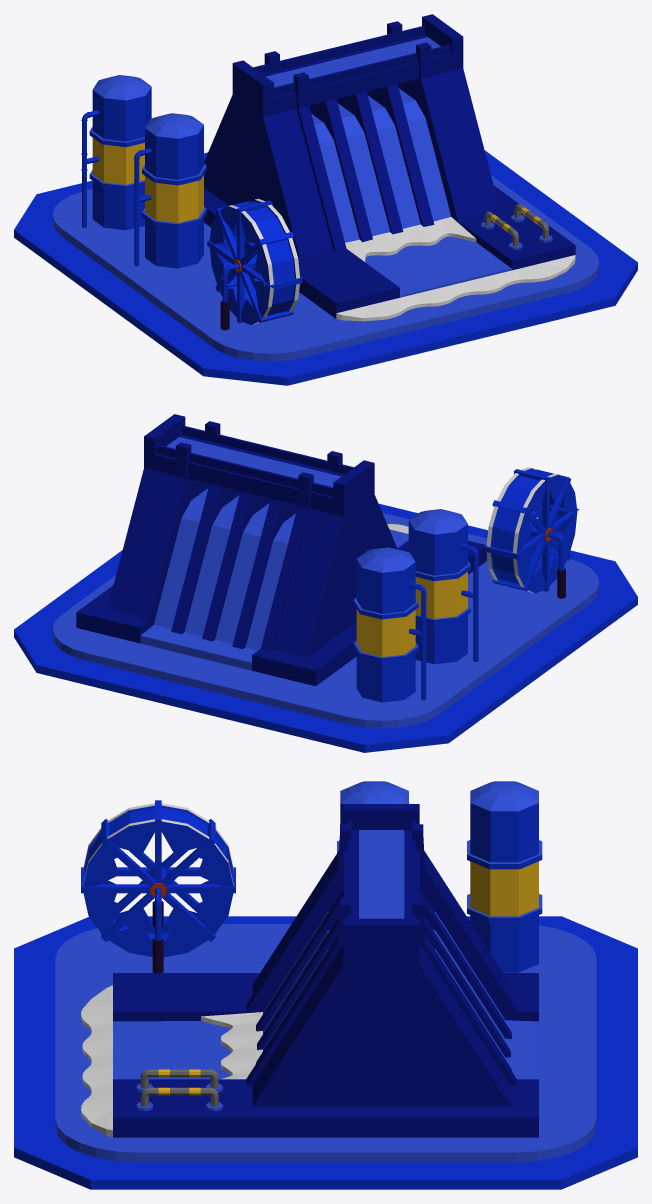
Rendered from PowerPlant_Blue.fbx.
3 views of the same model, one above another, from view 1: azimuth 30°, elevation 25°; view 2: azimuth 150°, elevation 25°; view 3: azimuth 270°, elevation 25° (orthographic). The views are drawn at different scales.
Visible parts, largest first — view 1: Power plant blue.001, Water mill.002; view 2: Power plant blue.001, Water mill.002; view 3: Power plant blue.001, Water mill.002.
Part boxes in pixels (x1=…): Power plant blue.001: x1=14, y1=14, x2=637, y2=385; Water mill.002: x1=207, y1=198, x2=302, y2=324; Power plant blue.001: x1=14, y1=414, x2=637, y2=752; Water mill.002: x1=484, y1=467, x2=579, y2=593; Power plant blue.001: x1=14, y1=781, x2=637, y2=1189; Water mill.002: x1=81, y1=800, x2=235, y2=956.
Bounding box in the file's own units: 576 × 224 × 576.
